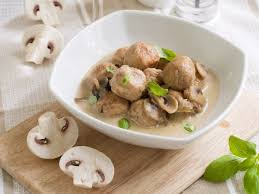bakso: (83, 33, 212, 136)
